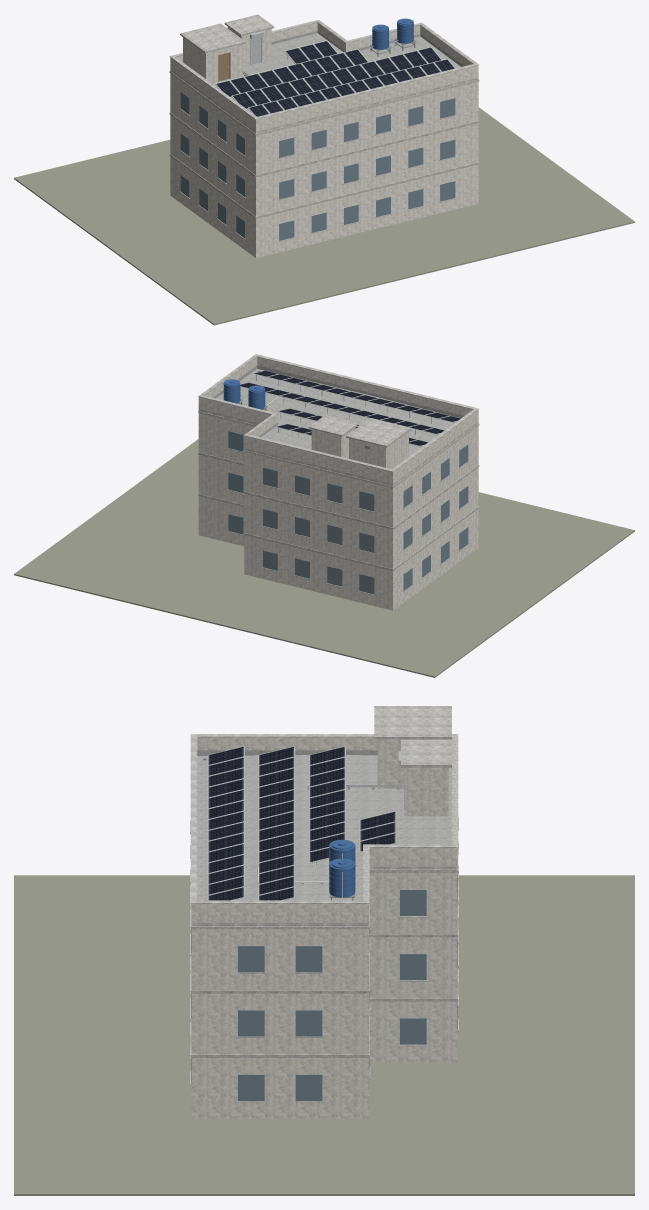
Rendered from rooftop_detailed.glb.
3 views of the same model, one above another, from view 1: azimuth 30°, elevation 25°; view 2: azimuth 150°, elevation 25°; view 3: azimuth 270°, elevation 25° (orthographic). The views are drawn at different scales.
Visible parts, largest first — view 1: RoofSolar; view 2: RoofSolar; view 3: RoofSolar.
Part boxes in pixels (box(x1,y1,x2,y2)): RoofSolar: box(14, 14, 634, 325); RoofSolar: box(14, 354, 634, 677); RoofSolar: box(14, 706, 634, 1195).
Bounding box in the file's own units: 34 × 12.55 × 28.
18 materials, 6 textured.
